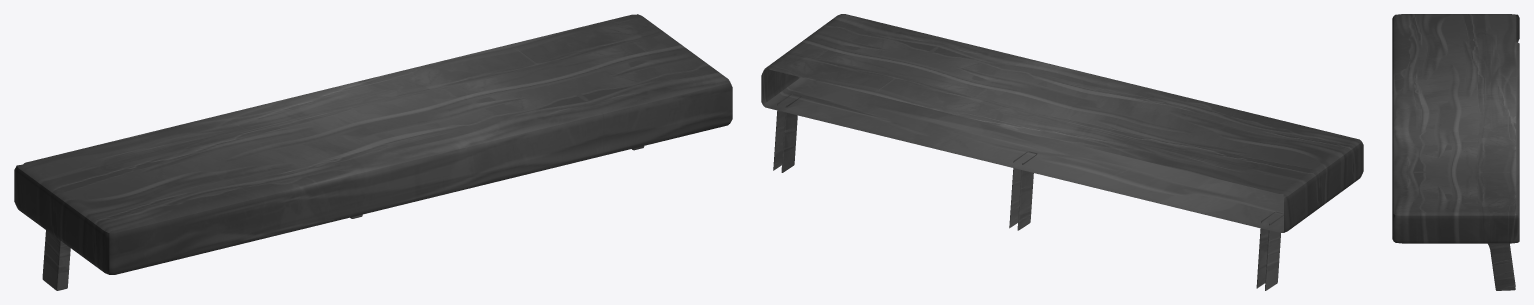
File: SM_Shelf.fbx
The picture shows the model from 3 angles, left to right: view 1: azimuth 30°, elevation 25°; view 2: azimuth 150°, elevation 25°; view 3: azimuth 270°, elevation 25°; orthographic projection. The views are drawn at different scales.
Visible parts, largest first — view 1: SM_Shelf; view 2: SM_Shelf; view 3: SM_Shelf.
Boxes of the visible parts, x1,y1,x2,y2 form: SM_Shelf: (14, 14, 732, 290); SM_Shelf: (761, 14, 1363, 290); SM_Shelf: (1392, 14, 1519, 290).
Bounding box in the file's own units: 343 × 63.56 × 91.45.
